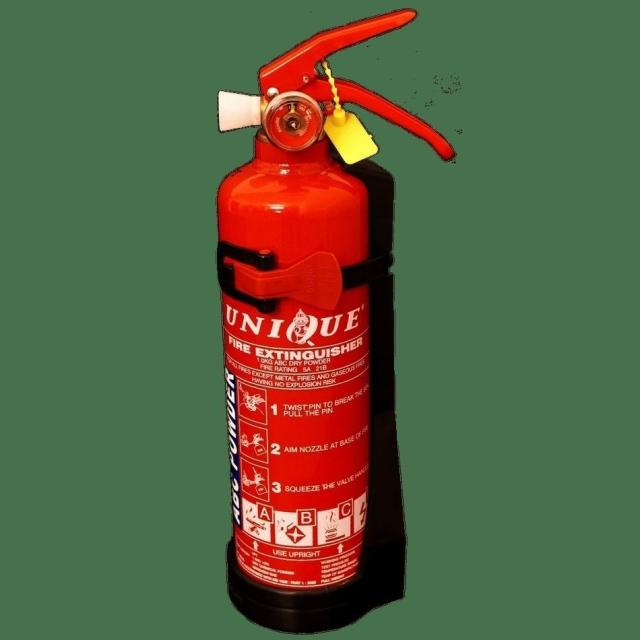fire_extinguisher: (208, 0, 461, 639)
